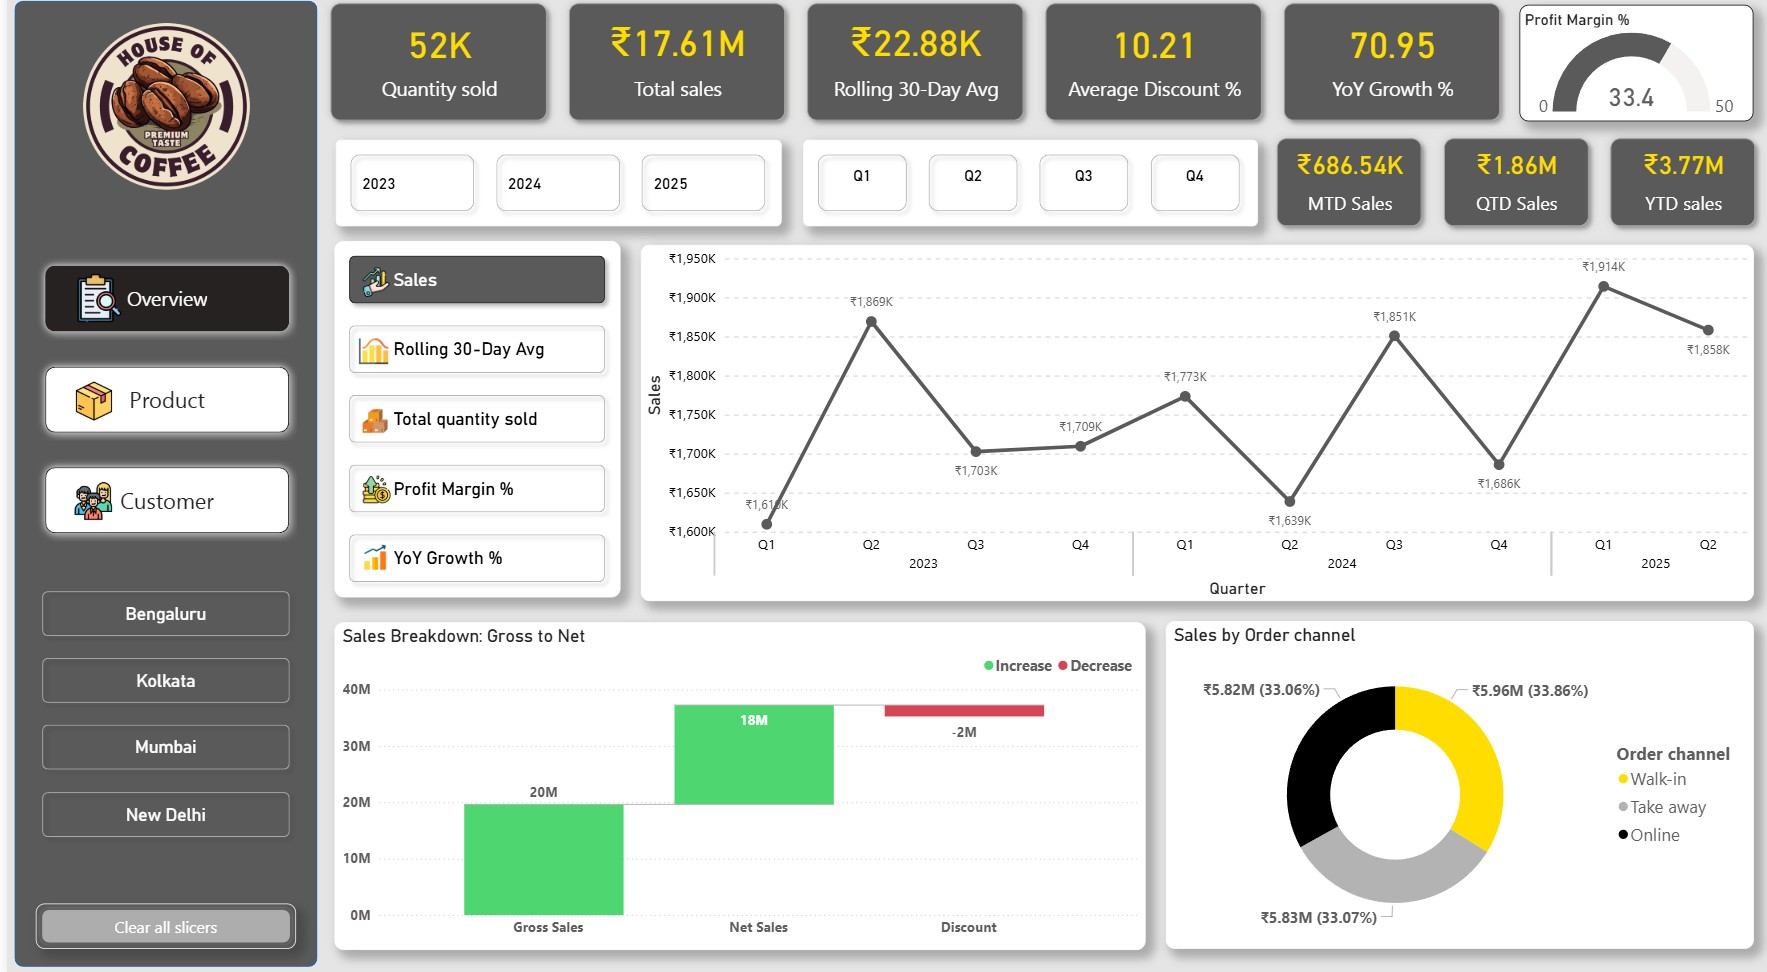

The page's visual inventory and layout, read from the dashboard file:
{"tool":"powerbi","page":{"name":"Page 1","canvas":[1920,1080],"ordinal":0},"visuals":[{"type":"shape","box":[8.4,0,330.5,1080],"z":0},{"type":"bookmarkNavigator","box":[33,295.3,284.3,311.8],"z":0,"group":"g1"},{"type":"advancedSlicerVisual","fields":{"Values":["Measure selector.Measure selector"]},"box":[357.7,278.8,311.6,389],"z":1000,"group":"g2"},{"type":"lineChart","fields":{"Y":["_Measures.Total sales"],"Category":["Date_Dimension.Year","Date_Dimension.Quarterrrr"]},"box":[691.5,282.5,1214.3,388.9],"z":1000},{"type":"image","title":"O_Image","box":[69.7,305.8,62.4,67.9],"z":1000,"group":"g1"},{"type":"image","title":"P_Image","box":[64.2,426,62.4,52.3],"z":2000,"group":"g1"},{"type":"actionButton","box":[31.2,1001.5,284.3,49.5],"z":2000},{"type":"cardVisual","fields":{"Data":["_Measures.Total quantity sold","_Measures.Total sales","_Measures.30 Day moving avg sales","_Measures.Average Discount","_Measures.YoY Growth %"]},"box":[341.5,7.3,1301.7,152.8],"z":3000},{"type":"image","title":"C_Image","box":[58.7,535.7,71.5,52.3],"z":3000,"group":"g1"},{"type":"gauge","fields":{"Y":["_Measures.Profit Margin %"]},"box":[1650.6,20,255.2,127.3],"z":4000},{"type":"donutChart","title":"Sales by Order channel","fields":{"Category":["Sales.Order channel"],"Y":["_Measures.Total sales"]},"box":[1263.8,693.3,642,357.7],"z":5000},{"type":"waterfallChart","title":"Sales Breakdown: Gross to Net","fields":{"Category":["Sales Steps.Step"],"Y":["_Measures.Waterfall Value"]},"box":[357.6,694.4,884.7,357.6],"z":6000},{"type":"advancedSlicerVisual","fields":{"Values":["Date_Dimension.Year"]},"box":[358,167.3,486.5,94.6],"z":7000},{"type":"advancedSlicerVisual","fields":{"Values":["Date_Dimension.Quarterrrr"]},"box":[868.4,167.3,495.7,94.6],"z":9000},{"type":"cardVisual","fields":{"Data":["_Measures.MTD Sales","_Measures.QTD Sales","_Measures.Year to date sales"]},"box":[1373.3,154.6,547.1,120],"z":13000},{"type":"advancedSlicerVisual","fields":{"Values":["Region_Details.City"]},"box":[23.8,645.7,300.8,299],"z":18000},{"type":"group","id":"g1","title":"Bookmark navigator","box":[33,295.3,284.3,311.8],"z":19000},{"type":"group","id":"g2","title":"Measure Selector","box":[357.7,278.8,311.6,389],"z":20000},{"type":"image","title":"MS Sales","box":[381.5,295.3,42.2,55],"z":21000},{"type":"image","title":"MS Avg","box":[379.7,377.9,42.2,42.2],"z":22000},{"type":"image","title":"MS Qty sold","box":[383.4,451.2,36.7,45.9],"z":23000},{"type":"image","title":"MS PF","box":[383.4,519.1,40.4,58.7],"z":24000},{"type":"image","title":"MS Growth","box":[383.4,599.8,36.7,45.9],"z":25000},{"type":"image","title":"Main logo","box":[60.7,10.5,228,240.5],"z":26000}]}

Visuals, with their boxes in screenshot pixels (x1, y1, x2, y2), scaled from the page's 1920x1080 canvas onto the 1767x972 screenshot:
shape: 8/0/312/971
bookmarkNavigator: 30/266/292/546
advancedSlicerVisual - Measure selector.Measure selector: 329/251/616/601
lineChart - _Measures.Total sales x Date_Dimension.Year: 636/254/1754/604
"O_Image" image: 64/275/122/336
"P_Image" image: 59/383/117/430
actionButton: 29/901/290/946
cardVisual - _Measures.Total quantity sold x _Measures.Total sales: 314/7/1512/144
"C_Image" image: 54/482/120/529
gauge - _Measures.Profit Margin %: 1519/18/1754/133
"Sales by Order channel" donutChart: 1163/624/1754/946
"Sales Breakdown: Gross to Net" waterfallChart: 329/625/1143/947
advancedSlicerVisual - Date_Dimension.Year: 329/151/777/236
advancedSlicerVisual - Date_Dimension.Quarterrrr: 799/151/1255/236
cardVisual - _Measures.MTD Sales x _Measures.QTD Sales: 1264/139/1766/247
advancedSlicerVisual - Region_Details.City: 22/581/299/850
"Bookmark navigator" group: 30/266/292/546
"Measure Selector" group: 329/251/616/601
"MS Sales" image: 351/266/390/315
"MS Avg" image: 349/340/388/378
"MS Qty sold" image: 353/406/387/447
"MS PF" image: 353/467/390/520
"MS Growth" image: 353/540/387/581
"Main logo" image: 56/9/266/226
